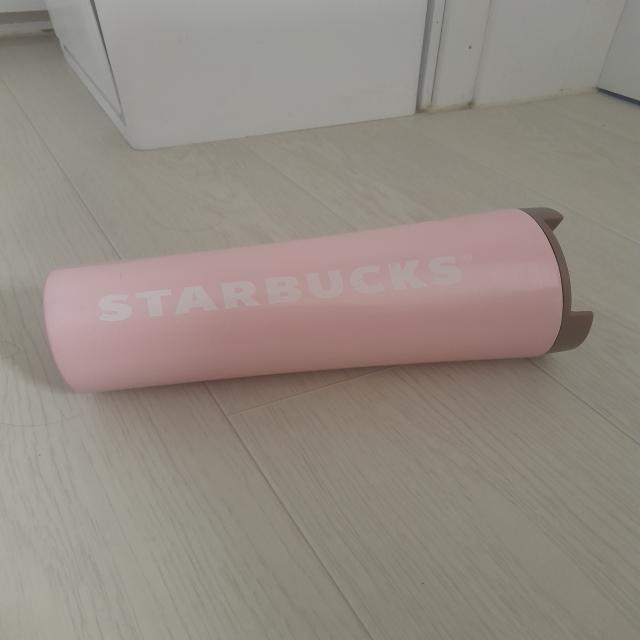waterbottle: (41, 208, 596, 394)
